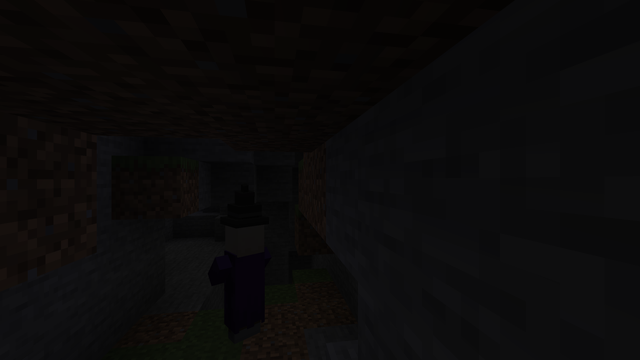sorcieres: (222, 216, 263, 347)
